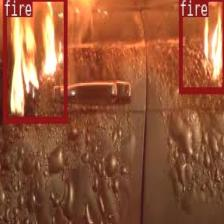fire: (3, 0, 66, 122), (178, 0, 223, 91)
